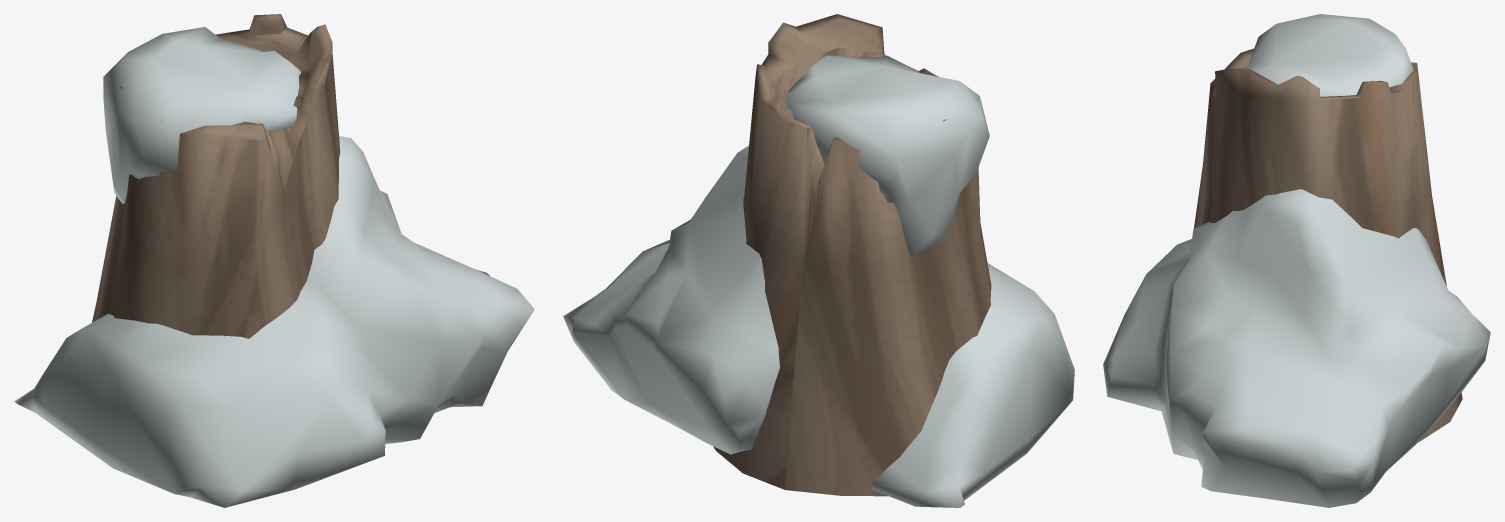
File: P_PineStump1_SnowCover.obj
The picture shows the model from 3 angles, left to right: view 1: azimuth 30°, elevation 25°; view 2: azimuth 150°, elevation 25°; view 3: azimuth 270°, elevation 25°; orthographic projection. The views are drawn at different scales.
Bounding box in the file's own units: 2.06 × 1.77 × 1.65.
